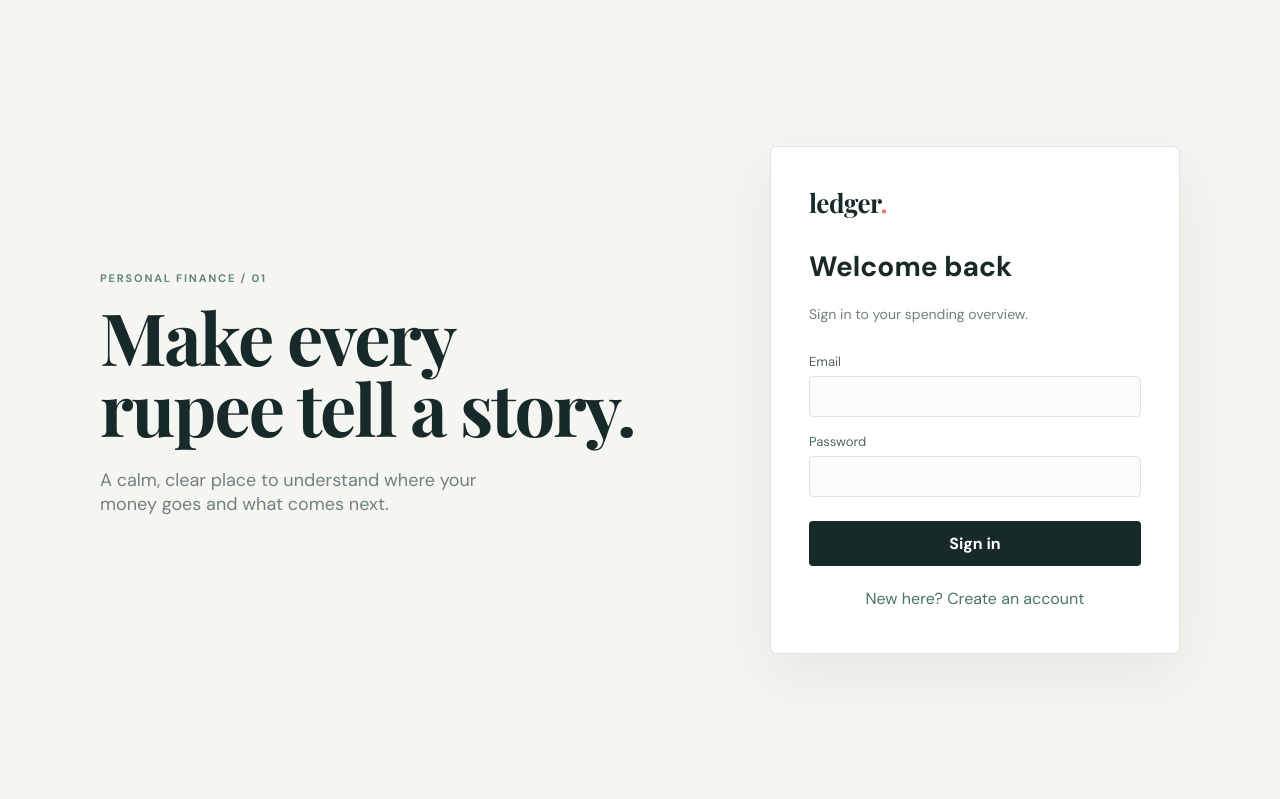
Test: authentication › shows registration and logs in successfully
Click the button "New here? Create an account". click: (975, 598)
box: [809,582,1141,615]
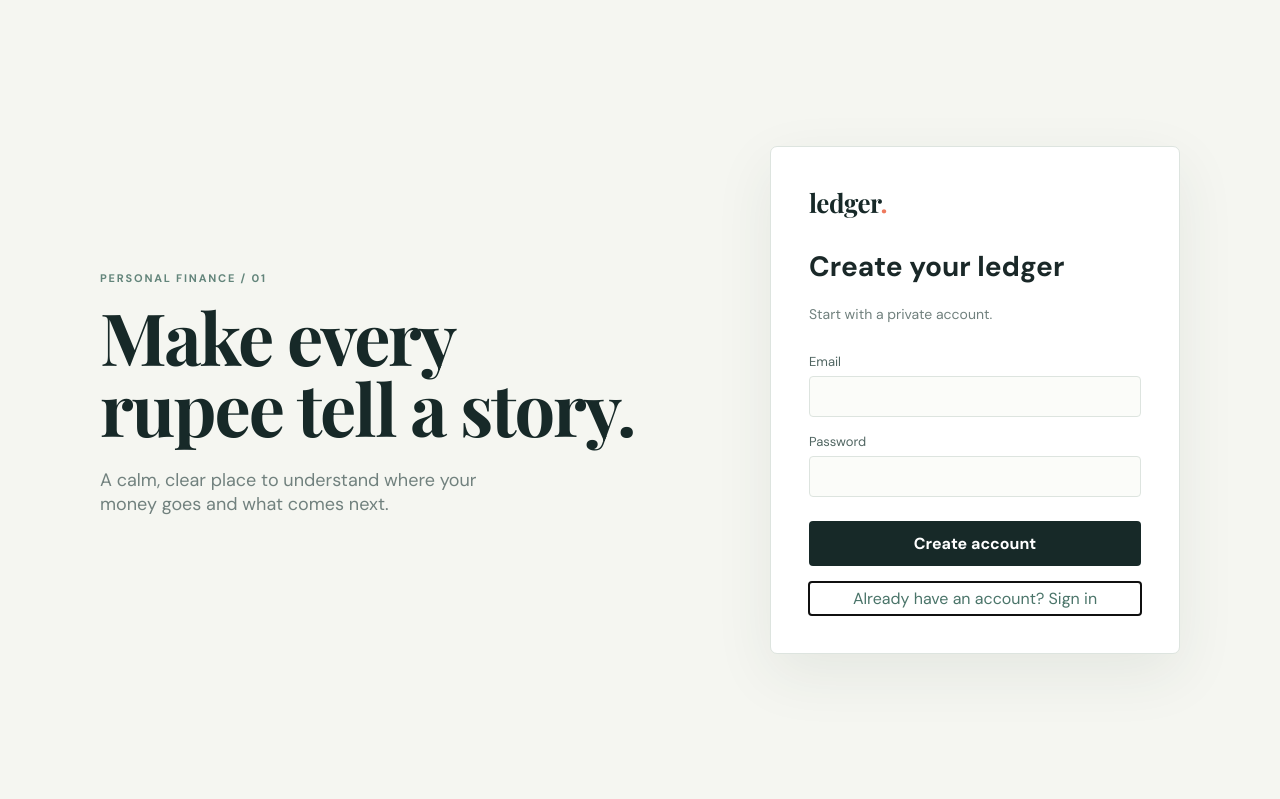
Expected: the heading "Create your ledger" is shown, [809,248,1064,285]
Type "new@example.com" into the field labelled "Email". click: (975, 396)
box: [809,376,1141,417]
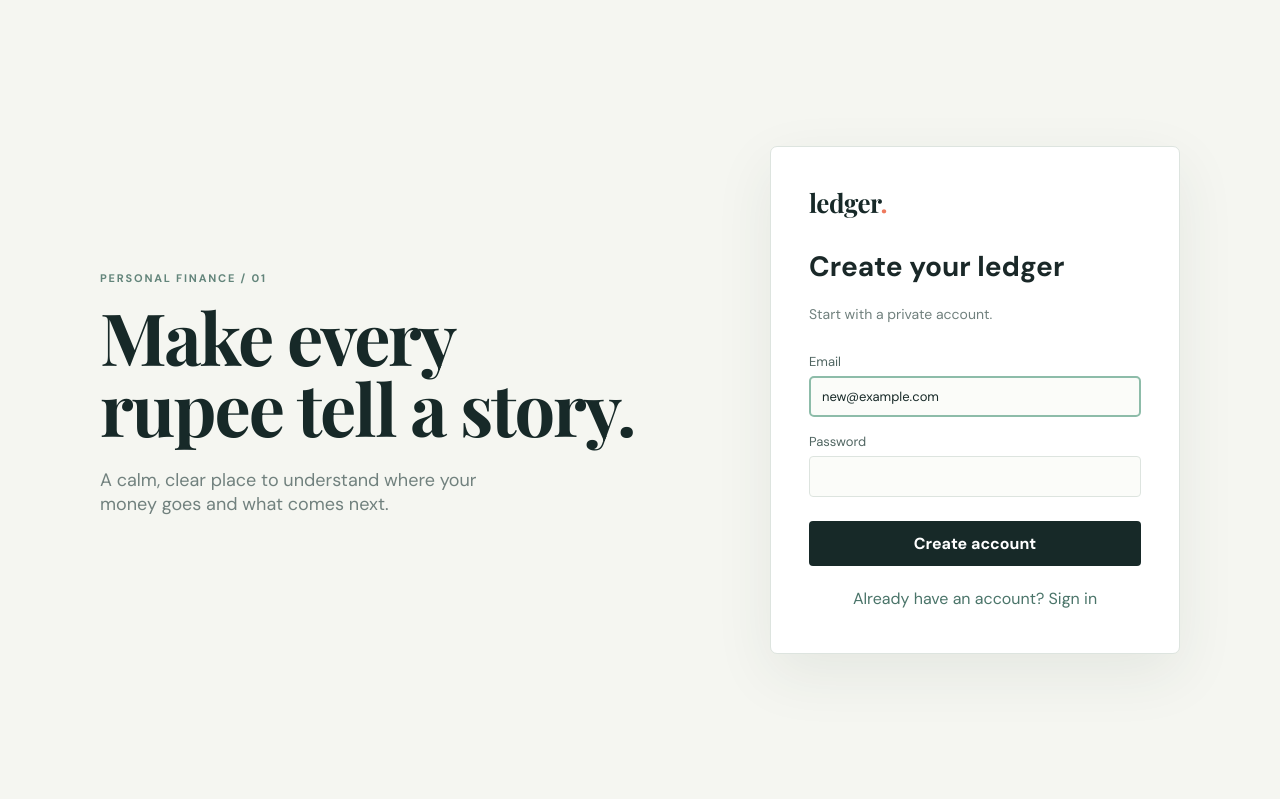
Type "Password123!" into the password field labelled "Password". click: (975, 476)
box: [809,456,1141,497]
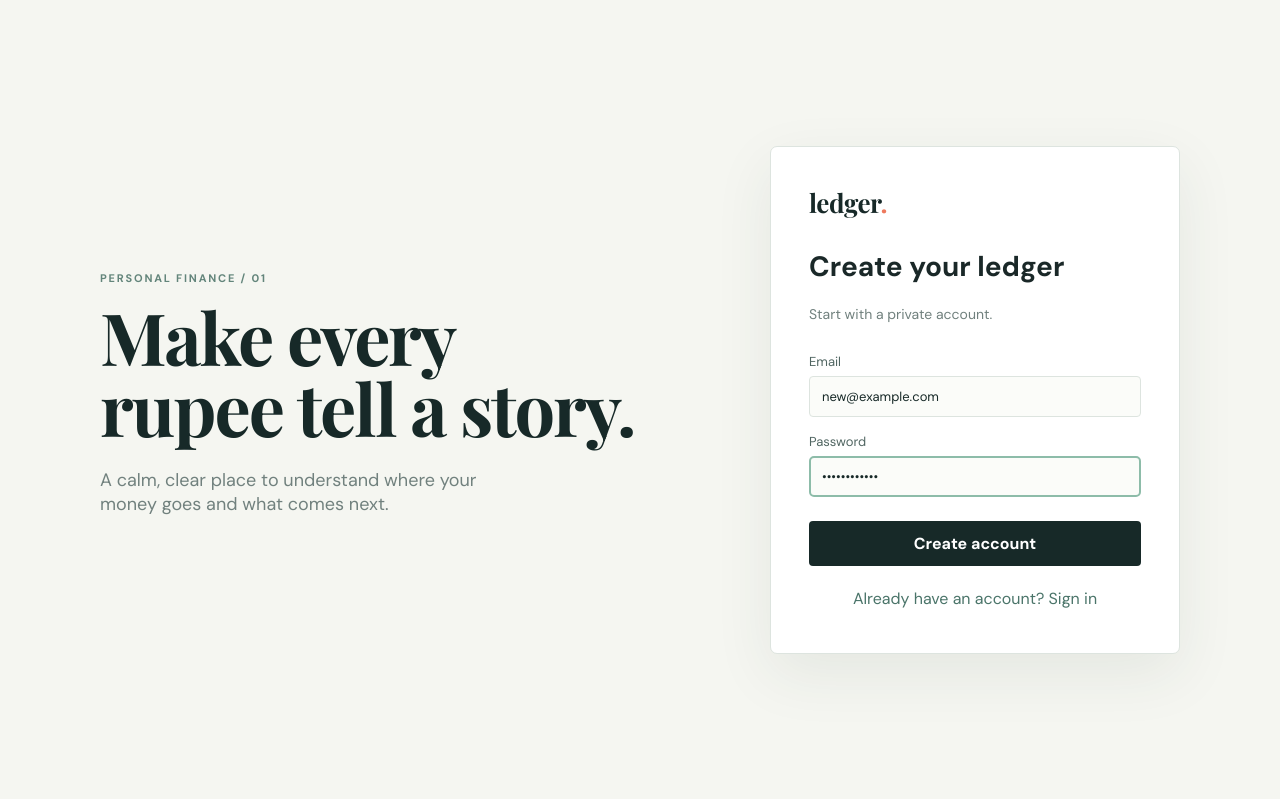
Click the button "Create account". click: (975, 544)
box: [809,521,1141,566]
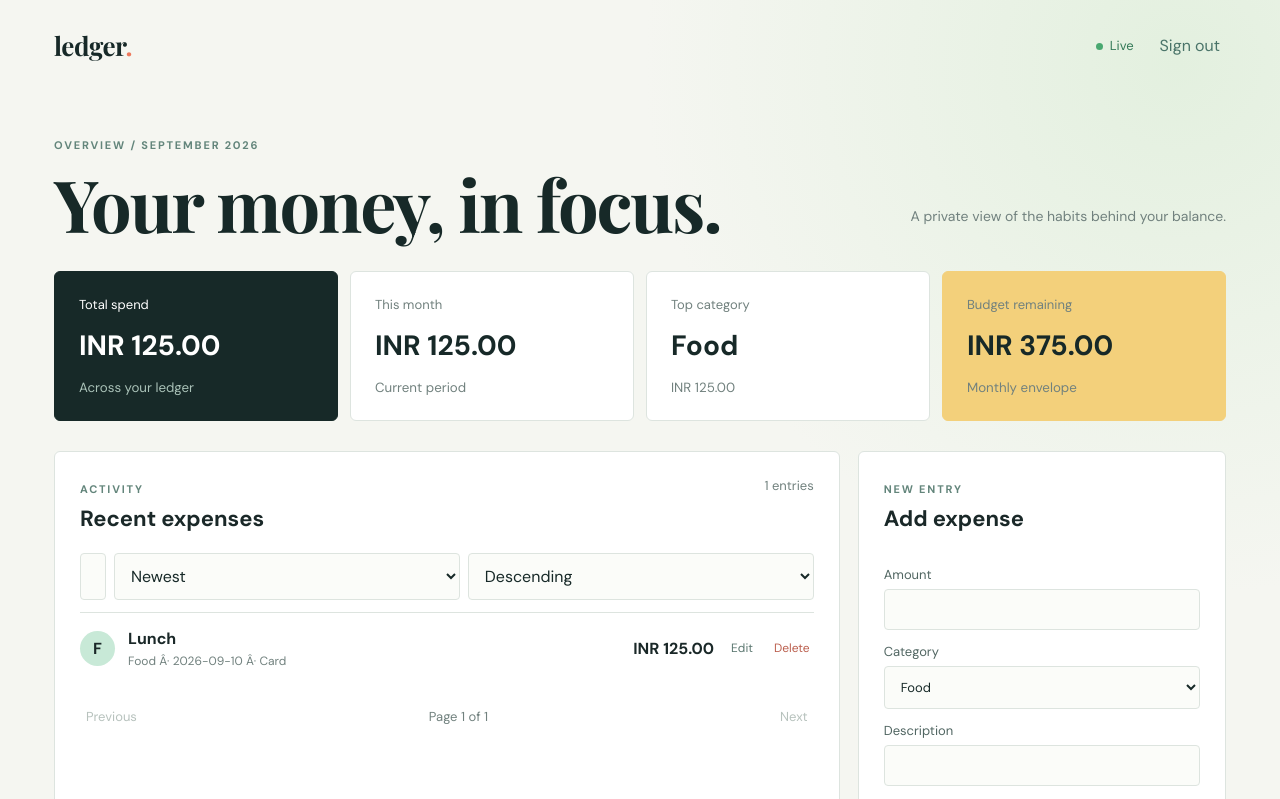
Expected: the heading "Your money, in focus." is shown, [54,168,721,238]
